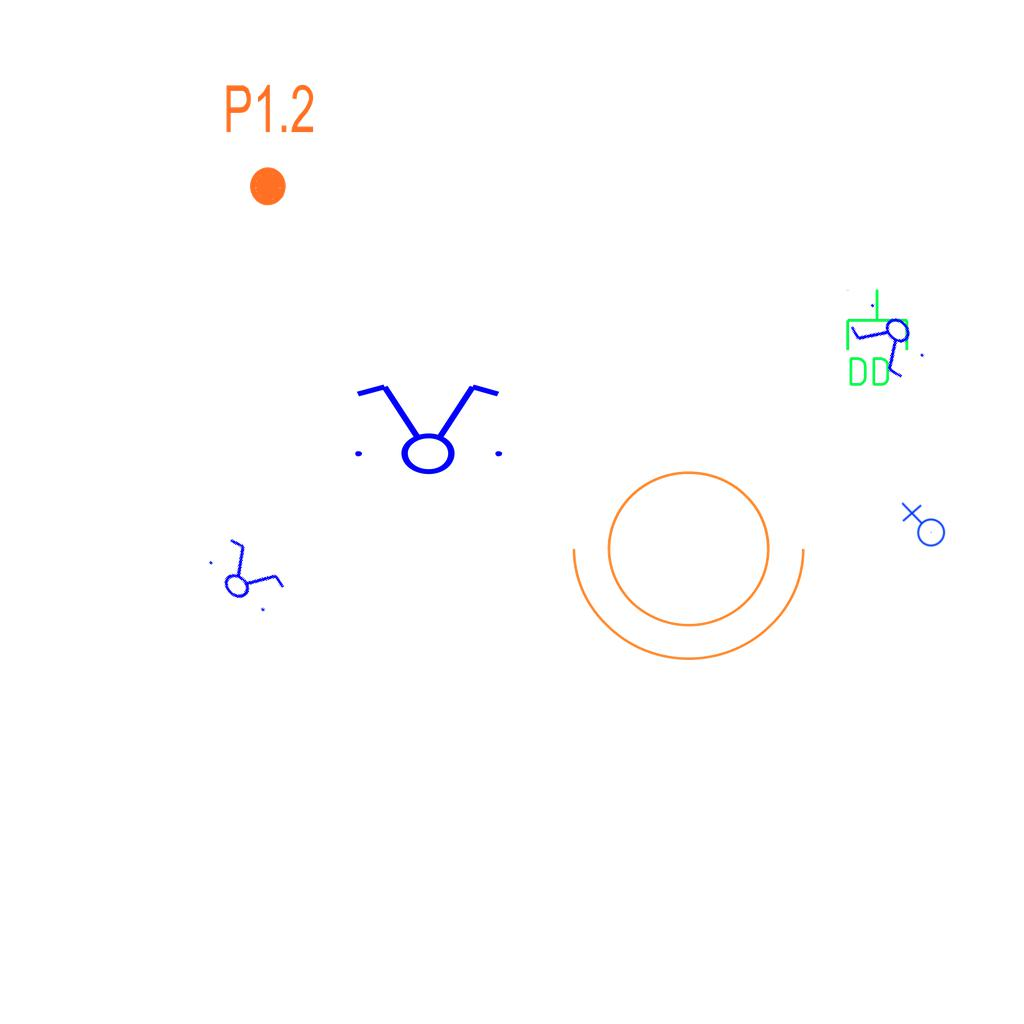Datenanschluss_zweifach: (842, 287, 911, 390)
Downlight_LED_Einbauleuchten_Flur: (223, 81, 316, 209)
Elektroanschluss_allgemein_230V_Geraeteanschlussdose_230V: (899, 502, 946, 551)
Scheinwerfer_fuer_Alarmbeleuchtung: (563, 446, 827, 671)
Serienschalter: (343, 380, 511, 476), (842, 293, 936, 387), (197, 530, 293, 622)
